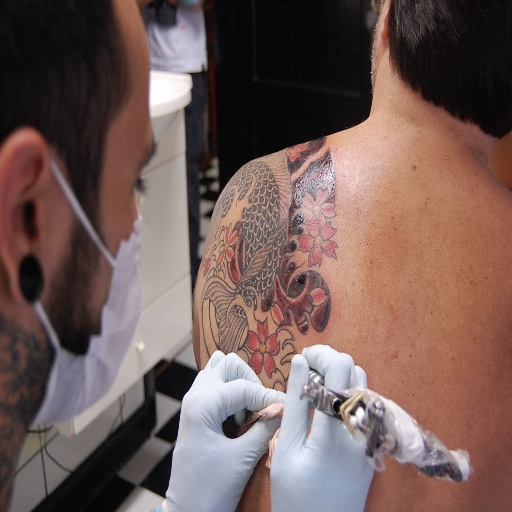hand: (269, 343, 375, 511), (158, 356, 276, 502)
